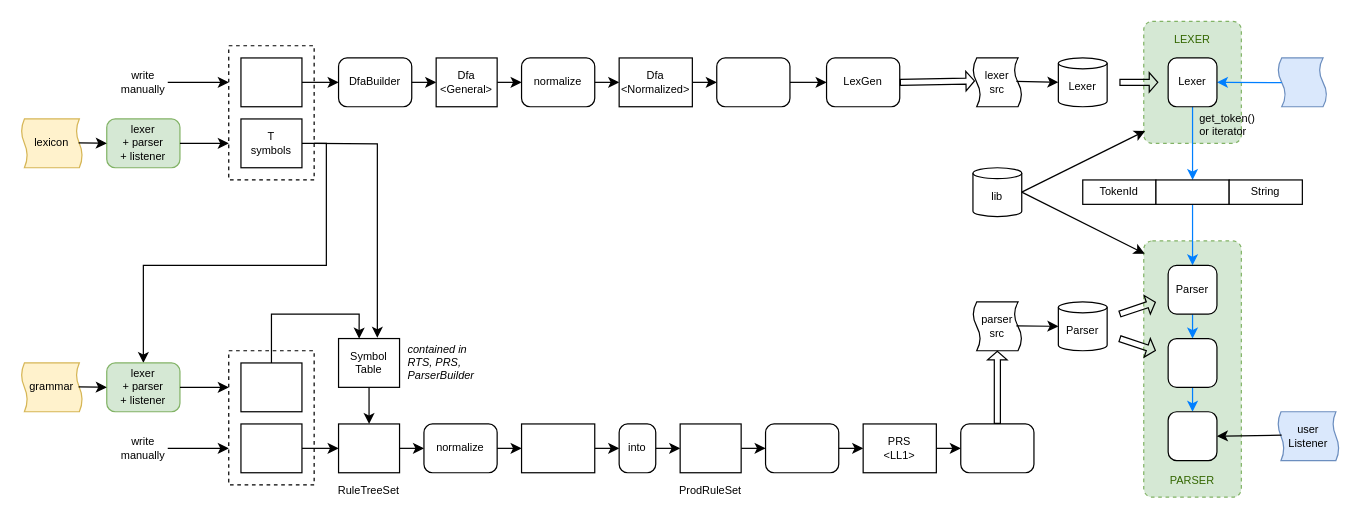
The diagram is 1360 pixels wide and 531 high, and some of its shapes have lost their labels. The box of each missing label's shape, as (x1, y1, x2, y2) in pixels:
ChannelId: (1155, 179, 1229, 204)
file: (1277, 57, 1327, 107)
left recurs. left factoriz.: (764, 423, 839, 473)
Listener: (1167, 411, 1217, 461)
Listener Wrapper: (1167, 337, 1217, 387)
NT symbols: (240, 362, 302, 412)
optimize: (716, 57, 790, 107)
ParserBuilder: (960, 423, 1034, 473)
PRS <General>: (679, 423, 741, 473)
RTS <General>: (337, 423, 400, 473)
RTS <Normalized>: (520, 423, 595, 473)
VecTree <GrNode>: (240, 423, 302, 473)
VecTree <ReNode>: (240, 57, 302, 107)
